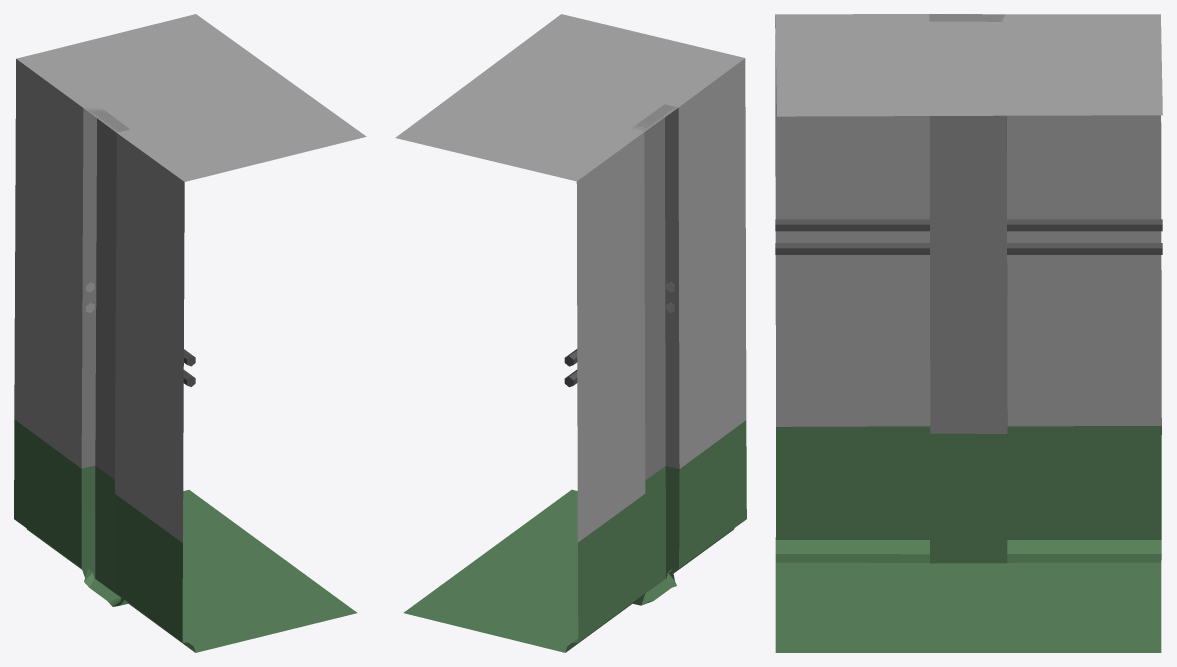
Rendered from mapa6.fbx.
3 renders of one model, left to right at view 1: azimuth 30°, elevation 25°; view 2: azimuth 150°, elevation 25°; view 3: azimuth 270°, elevation 25°, orthographic. The views are drawn at different scales.
Visible parts, largest first — view 1: pPlane13; view 2: pPlane13; view 3: pPlane13.
Part boxes in pixels (x1=…): pPlane13: x1=14, y1=14, x2=366, y2=652; pPlane13: x1=395, y1=14, x2=746, y2=652; pPlane13: x1=775, y1=14, x2=1162, y2=652.
Size of the model in its own units: 3.46 by 8.51 by 5.49.
